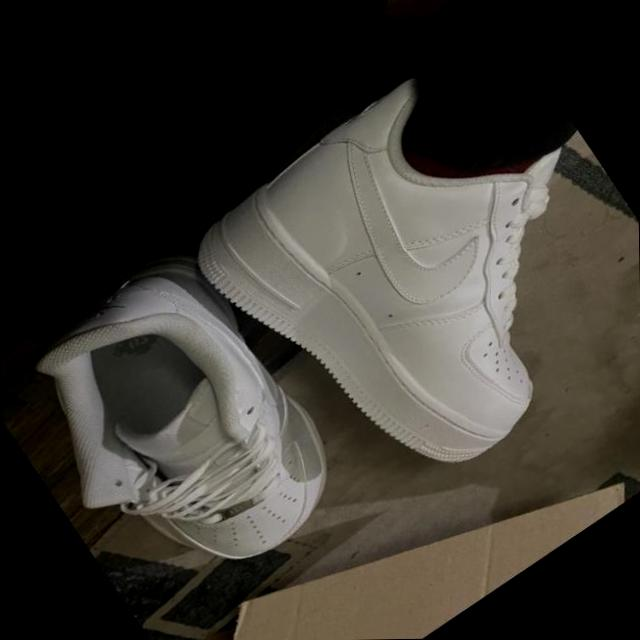nike_original_airforce: (171, 12, 640, 528), (0, 216, 379, 626)
